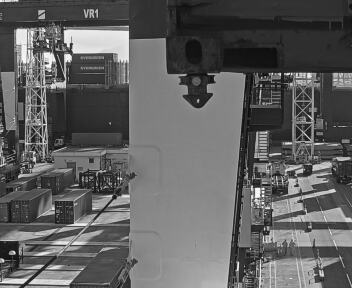twist_lock_2: (76, 208, 173, 261)
